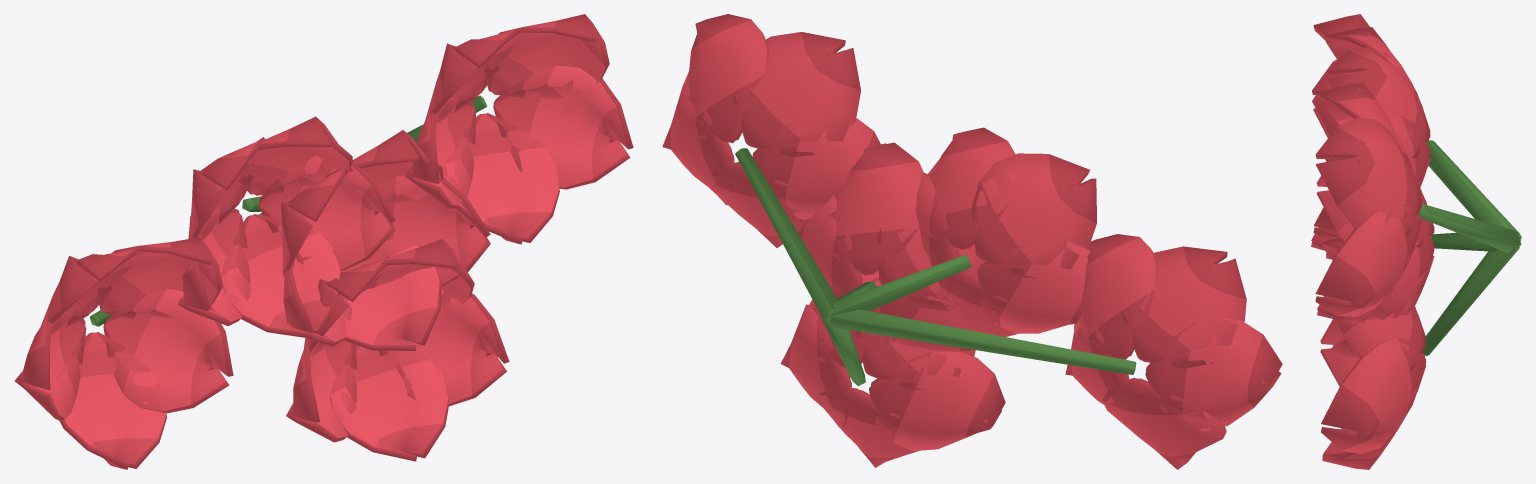
File: garden-geranium-bloom-head-1.glb
3 renders of one model, left to right at view 1: azimuth 30°, elevation 25°; view 2: azimuth 150°, elevation 25°; view 3: azimuth 270°, elevation 25°, orthographic. The views are drawn at different scales.
Parts seen in each view (by area): view 1: geranium-bloom-head-1; view 2: geranium-bloom-head-1; view 3: geranium-bloom-head-1.
Part boxes in pixels (box(x1,y1,x2,y2)): geranium-bloom-head-1: box(14, 14, 633, 469); geranium-bloom-head-1: box(662, 14, 1282, 469); geranium-bloom-head-1: box(1311, 14, 1521, 469).
Bounding box in the file's own units: 0.1724 × 0.1097 × 0.0508.
